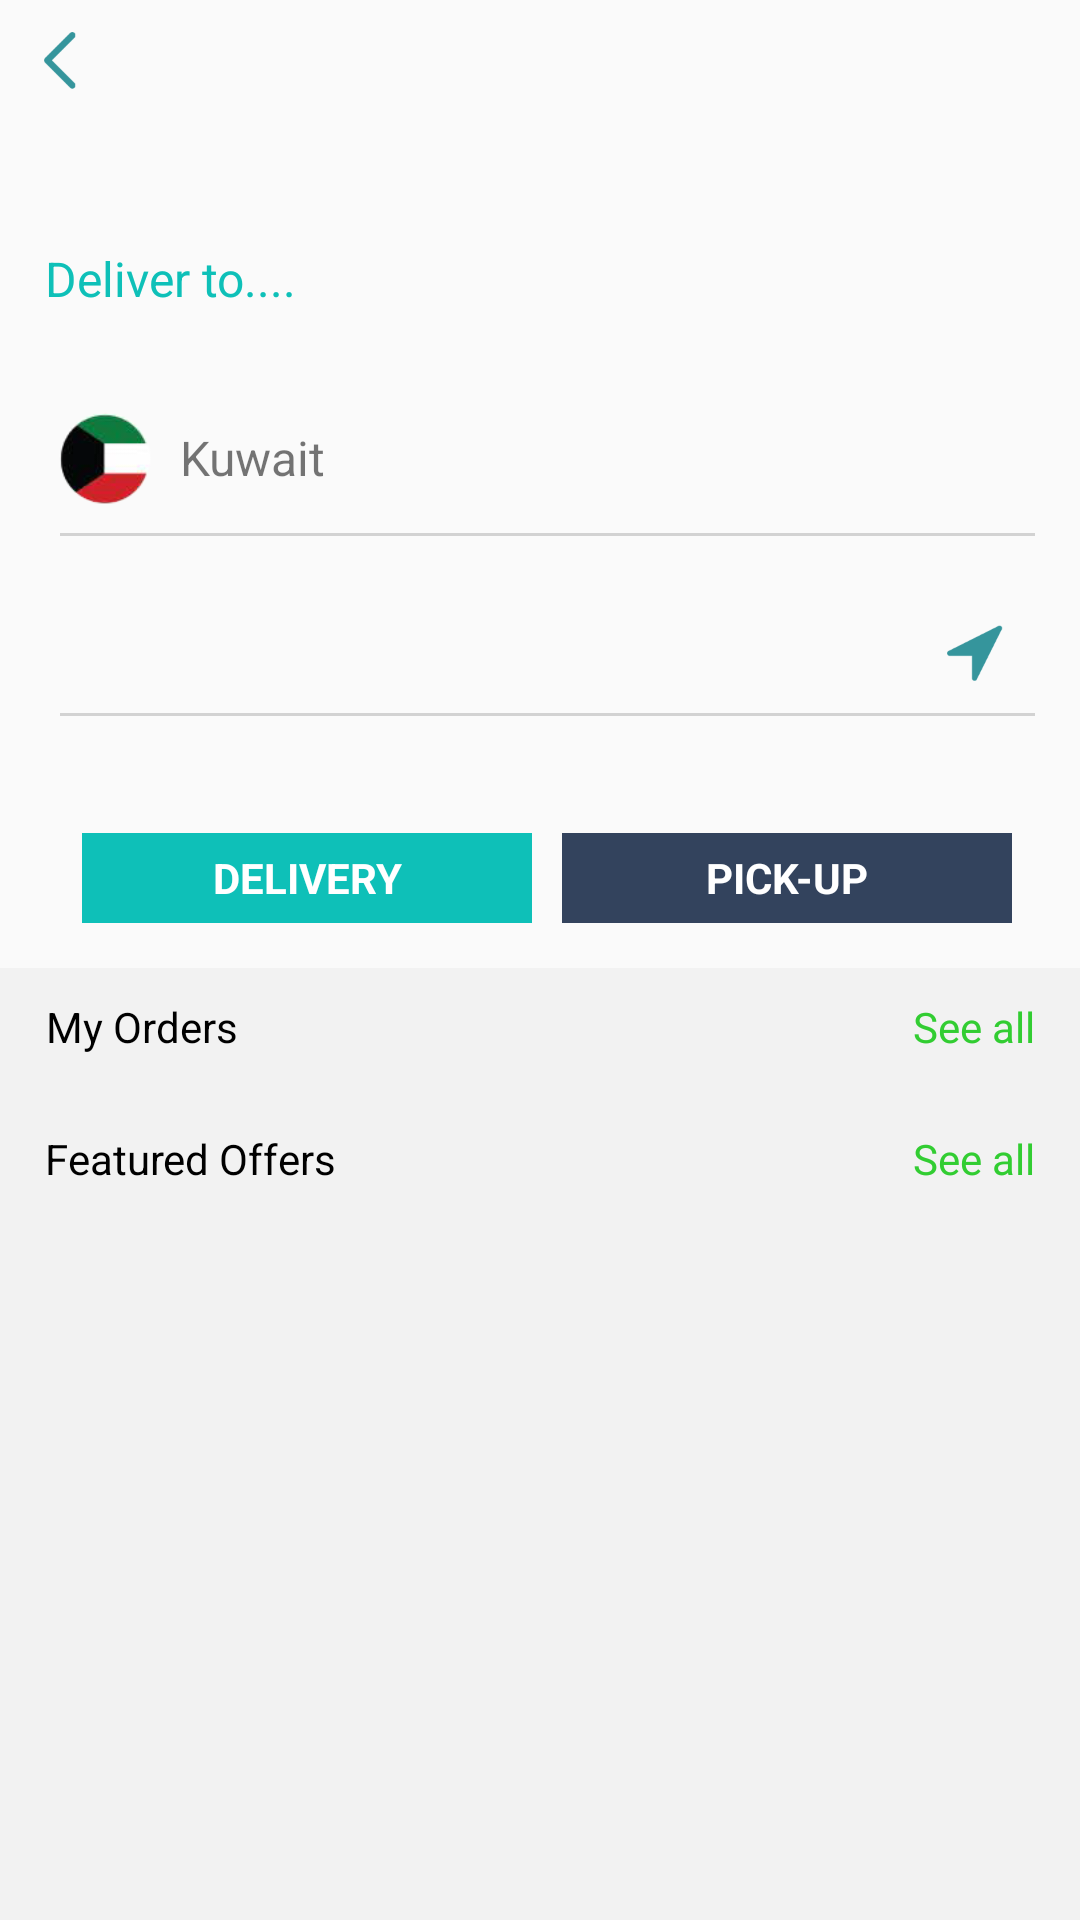

Icons on this 1080px x 1920px Android screen, each with its box as BBox(x1, y1, x2, y2):
back: BBox(44, 32, 76, 89)
country: BBox(60, 414, 147, 504)
location arrow: BBox(947, 625, 1003, 681)
